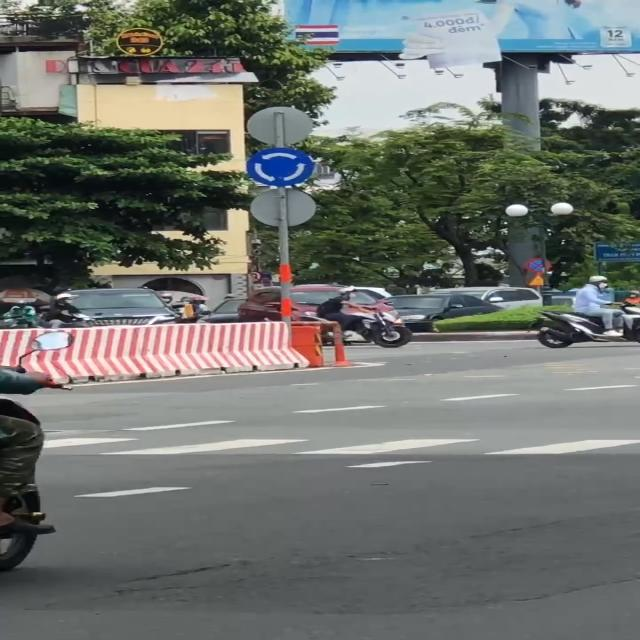Bien bao noi giao nhau chay theo vong xuyen: (244, 145, 322, 190)
